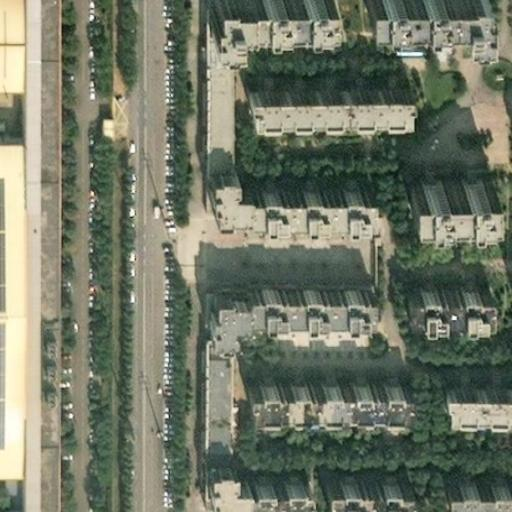building: (196, 154, 358, 204), (191, 269, 353, 305), (185, 3, 221, 154), (238, 71, 401, 101), (237, 370, 393, 399), (198, 453, 300, 497), (191, 305, 216, 443), (399, 166, 480, 198), (393, 274, 479, 304), (435, 467, 512, 495), (317, 469, 400, 493), (445, 371, 512, 399)
